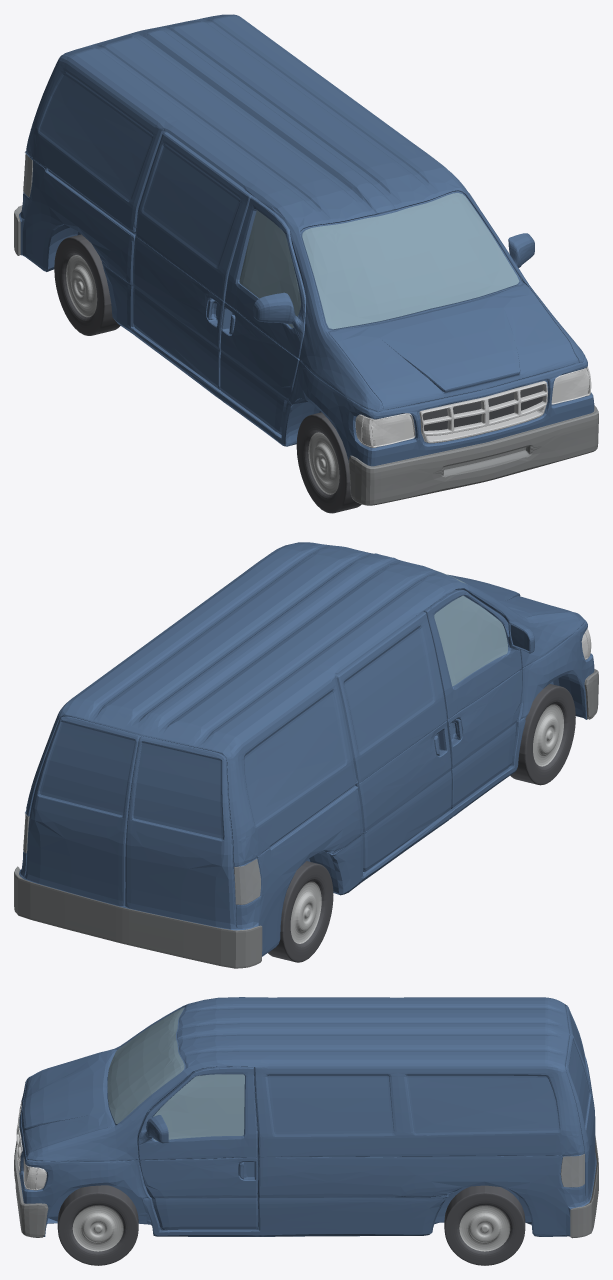
The model's file is econoline-mobile.glb.
The picture shows the model from 3 angles, top to bottom: view 1: azimuth 30°, elevation 25°; view 2: azimuth 150°, elevation 25°; view 3: azimuth 270°, elevation 25°; orthographic projection. The views are drawn at different scales.
Visible parts, largest first — view 1: Camioneta.001_Circle.000--Material, Camioneta.008_Circle.012--Material.001, Camioneta.012_Circle.016--Material.004, Camioneta.011_Circle.015--Material.006, Camioneta.013_Circle.017--Material.003, Camioneta.004_Circle.004--Material.003, Camioneta.000_Circle.008--Material.007, Camioneta.007_Circle.019--Material.005, Camioneta.002_Circle.007--Material.002, Camioneta.014_Circle.018--Material.002; view 2: Camioneta.001_Circle.000--Material, Camioneta.012_Circle.016--Material.004, Camioneta.008_Circle.012--Material.001, Camioneta.004_Circle.004--Material.003, Camioneta.013_Circle.017--Material.003, Camioneta.014_Circle.018--Material.002, Camioneta.002_Circle.007--Material.002, Camioneta.009_Circle.013--Material.010; view 3: Camioneta.001_Circle.000--Material, Camioneta.008_Circle.012--Material.001, Camioneta.016_Circle.003--Material.003, Camioneta.010_Circle.001--Material.003, Camioneta.012_Circle.016--Material.004, Camioneta.015_Circle.002--Material.002, Camioneta.017_Circle.005--Material.002, Camioneta.009_Circle.013--Material.010.
Part boxes in pixels (x1,y1,x2,y2): Camioneta.001_Circle.000--Material: [19, 14, 594, 466]; Camioneta.008_Circle.012--Material.001: [239, 193, 519, 329]; Camioneta.012_Circle.016--Material.004: [14, 205, 598, 505]; Camioneta.011_Circle.015--Material.006: [419, 381, 547, 443]; Camioneta.013_Circle.017--Material.003: [54, 234, 120, 335]; Camioneta.004_Circle.004--Material.003: [296, 412, 361, 513]; Camioneta.000_Circle.008--Material.007: [371, 368, 589, 445]; Camioneta.007_Circle.019--Material.005: [422, 385, 542, 430]; Camioneta.002_Circle.007--Material.002: [308, 432, 339, 494]; Camioneta.014_Circle.018--Material.002: [66, 255, 97, 317]; Camioneta.001_Circle.000--Material: [19, 542, 594, 956]; Camioneta.012_Circle.016--Material.004: [14, 669, 598, 968]; Camioneta.008_Circle.012--Material.001: [434, 571, 507, 686]; Camioneta.004_Circle.004--Material.003: [510, 684, 575, 785]; Camioneta.013_Circle.017--Material.003: [268, 861, 333, 962]; Camioneta.014_Circle.018--Material.002: [290, 881, 321, 943]; Camioneta.002_Circle.007--Material.002: [533, 704, 563, 766]; Camioneta.009_Circle.013--Material.010: [23, 812, 260, 904]; Camioneta.001_Circle.000--Material: [19, 997, 596, 1236]; Camioneta.008_Circle.012--Material.001: [107, 1007, 244, 1140]; Camioneta.016_Circle.003--Material.003: [57, 1185, 138, 1265]; Camioneta.010_Circle.001--Material.003: [444, 1185, 525, 1265]; Camioneta.012_Circle.016--Material.004: [14, 1136, 598, 1238]; Camioneta.015_Circle.002--Material.002: [459, 1205, 510, 1251]; Camioneta.017_Circle.005--Material.002: [72, 1205, 123, 1251]; Camioneta.009_Circle.013--Material.010: [560, 1154, 584, 1187].
Bounding box in the file's own units: 4.35 × 3.68 × 9.97.
